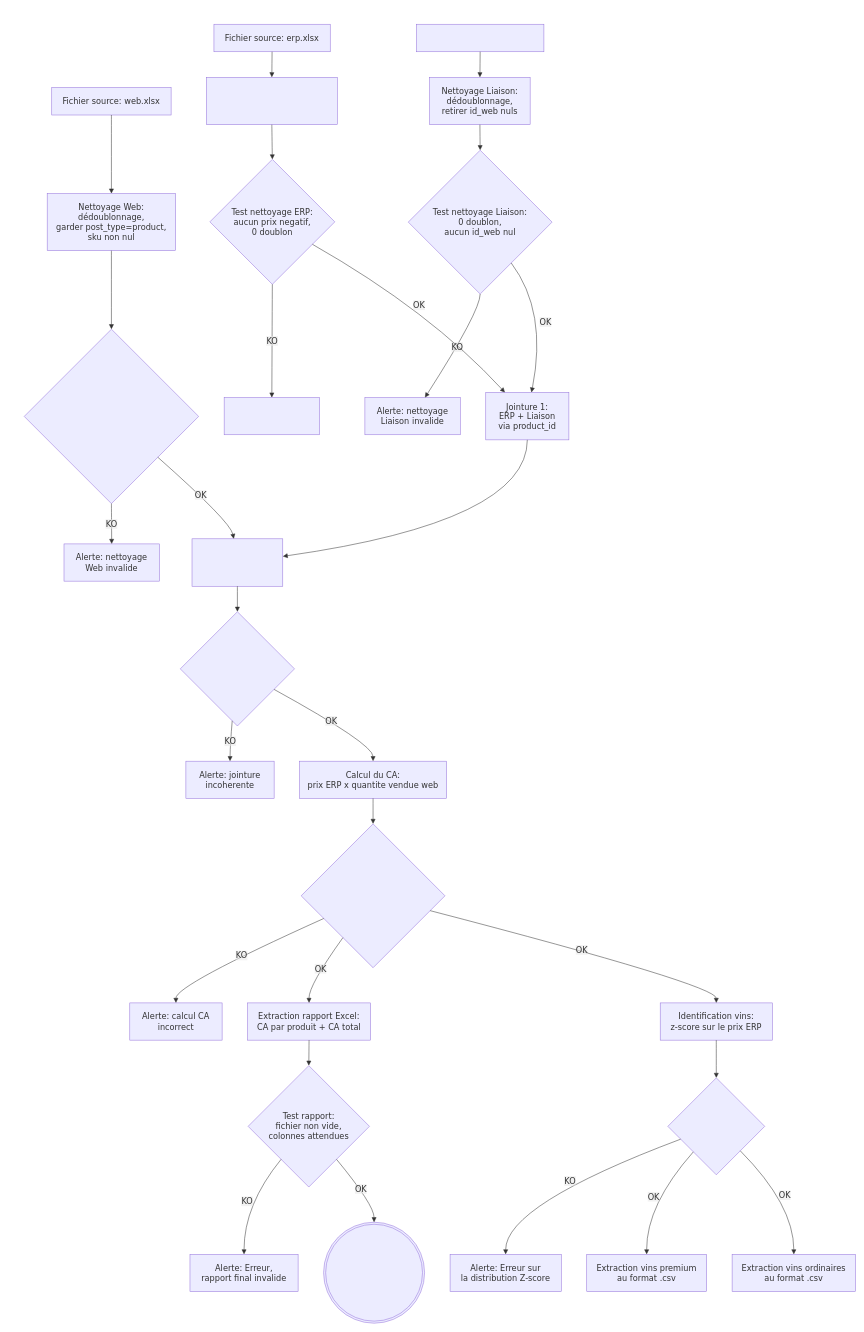
This 864x1332 diagram has some shape labels left out. Here are the shapes that lost their labels. From the top down, the centre of each, then its label:
point (480, 38): Fichier source: liaison.xlsx
point (271, 101): Nettoyage ERP: dédoublonnage, retirer prix negatifs ou nuls
point (111, 416): Test nettoyage Web: 0 doublon, uniquement produits valides
point (272, 416): Alerte: nettoyage ERP invalide
point (237, 562): Jointure 2: Resultat + Web via id_web = sku
point (237, 668): Test jointure: coherente, pas de doublons crees
point (373, 895): Test calcul CA: somme des CA produits = CA total
point (716, 1126): Test z-score: distribution et seuil coherents
point (374, 1272): Succès: Rapport Excel disponible et réalisé
